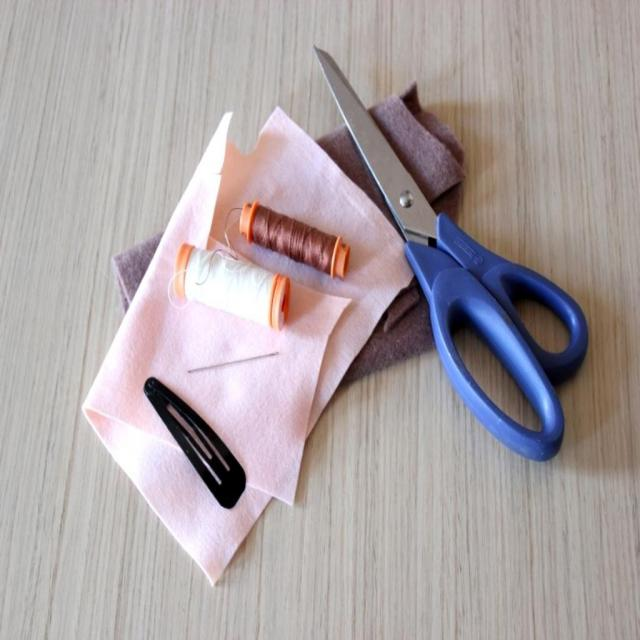scissor: (314, 39, 592, 468)
